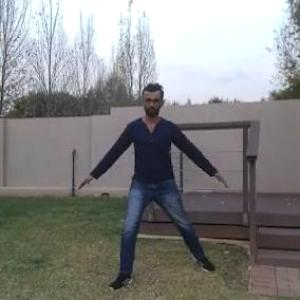land: (88, 81, 210, 293)
